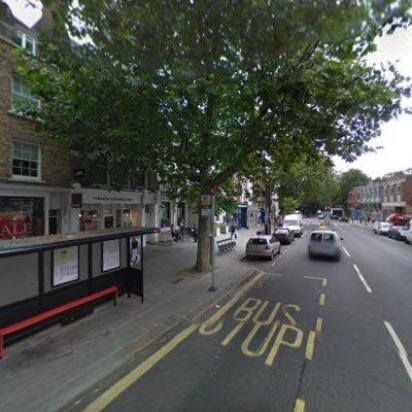moving-light-truck: (308, 228, 346, 262)
stationary-car-onstreet: (246, 234, 282, 262), (272, 228, 293, 244)
stationary-light-truck-onstreet: (283, 213, 303, 237), (372, 219, 394, 237)
